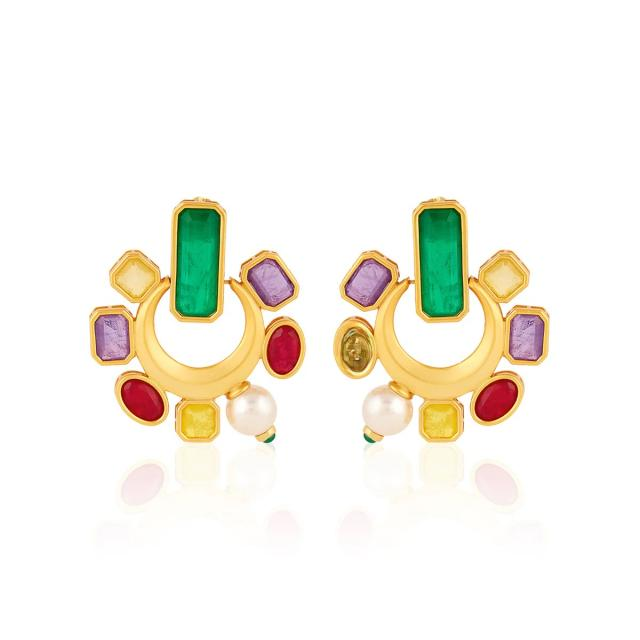missing gem: (340, 326, 372, 373)
